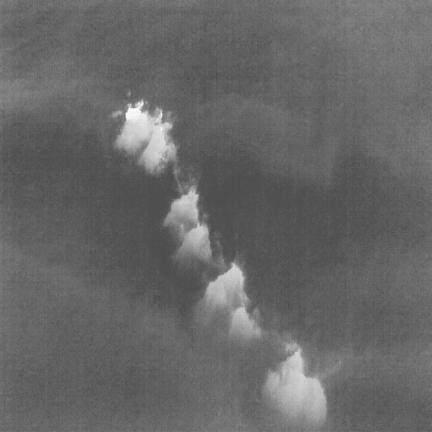flukeprints: (262, 350, 326, 430), (138, 111, 176, 174), (202, 265, 248, 313), (116, 102, 155, 153), (176, 224, 211, 264), (163, 187, 198, 226), (229, 306, 261, 344)
